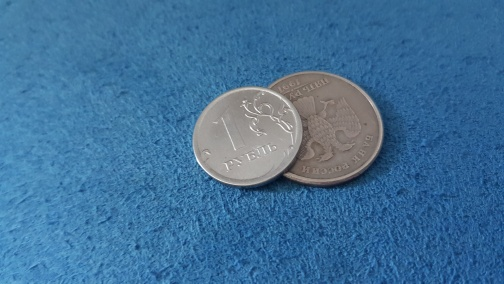coin: (265, 71, 384, 187), (191, 86, 304, 188)
